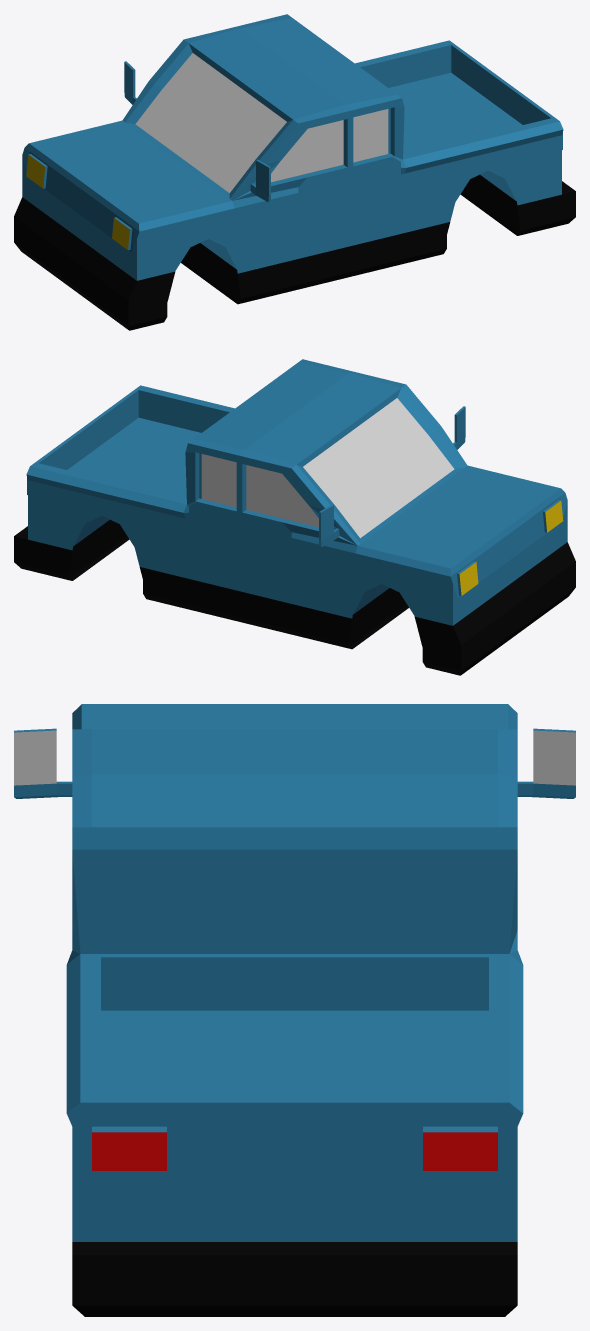
The model's file is PickUp.fbx.
3 views of the same model, one above another, from view 1: azimuth 30°, elevation 25°; view 2: azimuth 150°, elevation 25°; view 3: azimuth 270°, elevation 25° (orthographic). The views are drawn at different scales.
Parts seen in each view (by area): view 1: PickUP:pCube2; view 2: PickUP:pCube2; view 3: PickUP:pCube2.
Part boxes in pixels (x1,y1,x2,y2): PickUP:pCube2: (14,14,575,330); PickUP:pCube2: (14,359,575,675); PickUP:pCube2: (14,704,575,1316).
Size of the model in its own units: 14.75 by 5.41 by 8.27.
